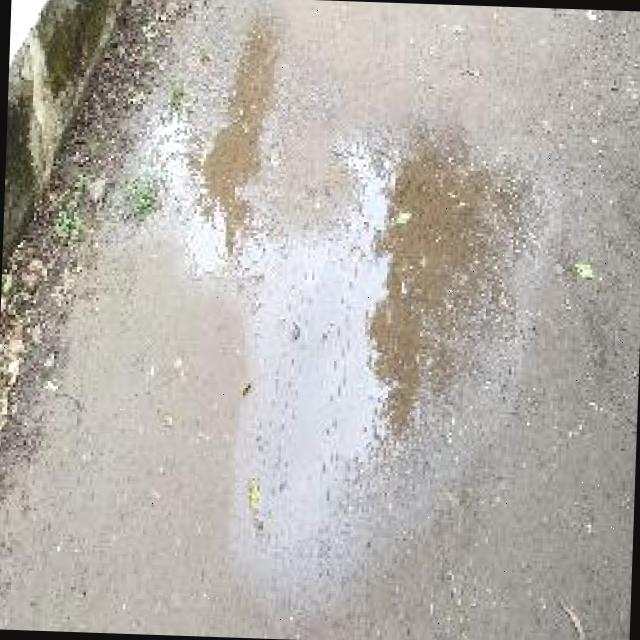stagnation: (213, 130, 518, 523), (148, 28, 308, 246)
